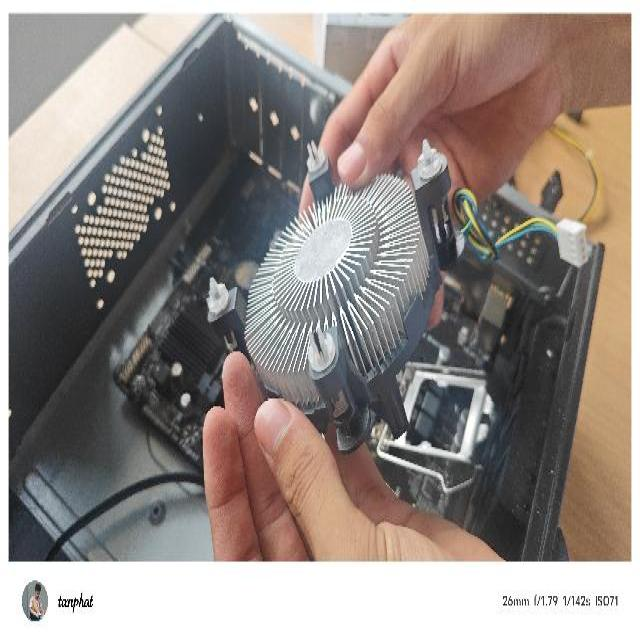CPU_Fan: (243, 124, 497, 456)
